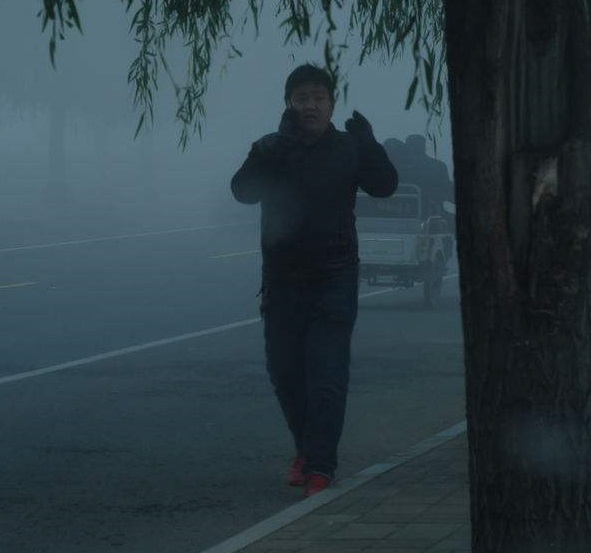person: (232, 63, 401, 492), (405, 132, 455, 204)
